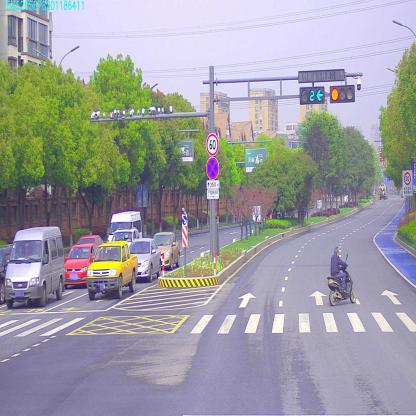traffic-light: (332, 86, 354, 102), (299, 88, 324, 102)
